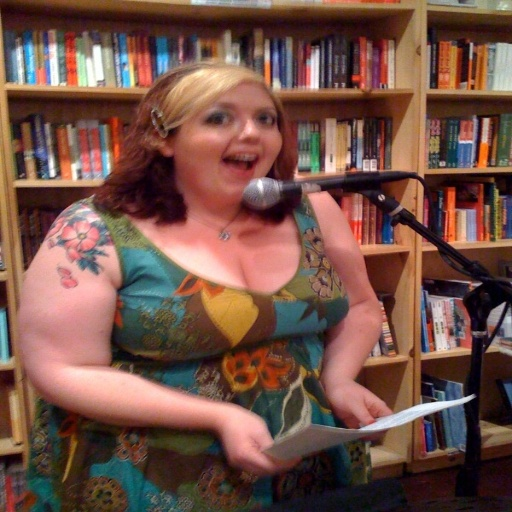hand: (215, 407, 302, 480), (335, 378, 402, 435)
